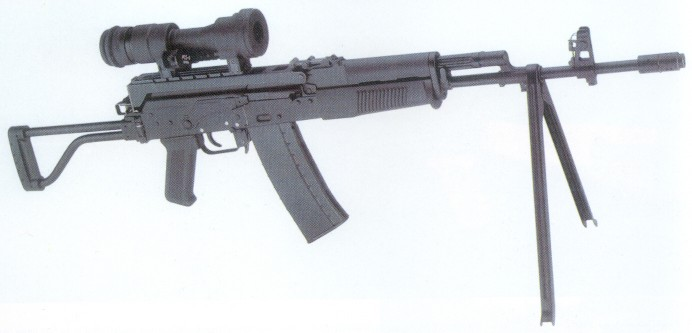Arma Real: (7, 8, 687, 325)
